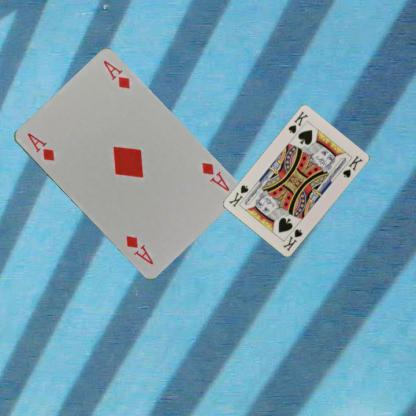Ad: (24, 130, 57, 164), (198, 159, 231, 193)
Ks: (280, 226, 304, 252), (286, 109, 309, 135)
